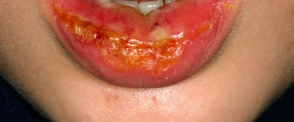SJS-TEN: (18, 0, 260, 122)
